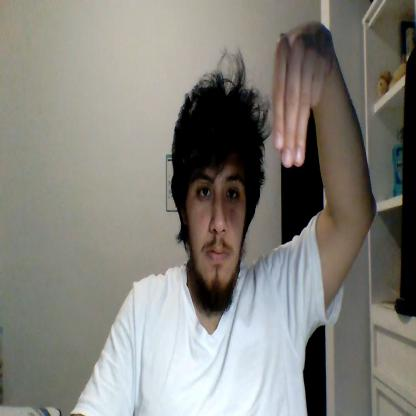M: (272, 20, 332, 168)
